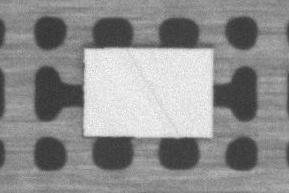DIE_CRACK: (126, 49, 177, 133)
